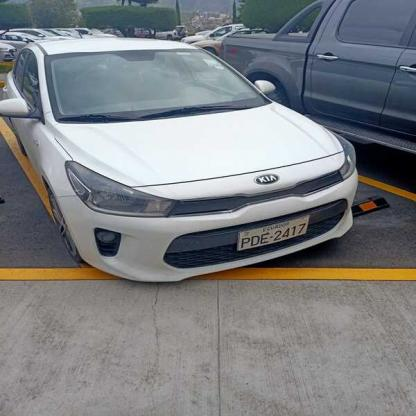Placa: (238, 215, 316, 255)
